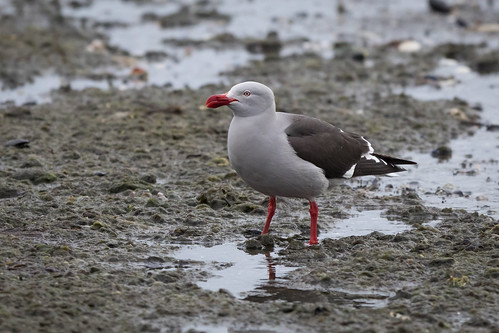animal: (198, 77, 410, 252)
dirt: (4, 56, 495, 323)
